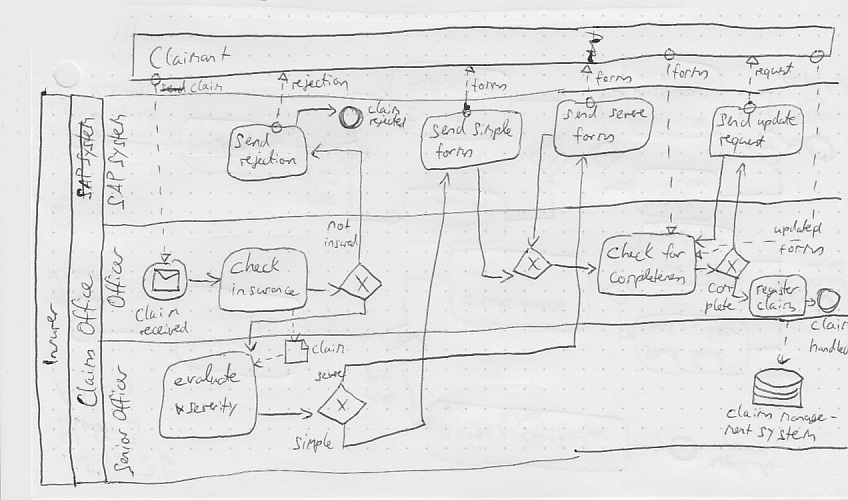Claim: (72, 347, 99, 407), (134, 305, 185, 324), (187, 78, 225, 95)
Claimant: (147, 46, 231, 70)
Com-: (708, 281, 736, 297)
Insurer: (41, 300, 61, 369)
Manage-: (780, 404, 837, 425)
Office: (69, 267, 98, 335)
Officer: (105, 359, 132, 419), (103, 245, 128, 307)
SAP: (103, 174, 128, 209), (74, 171, 96, 201)
Send: (716, 112, 753, 130), (234, 133, 274, 146)
Senior: (110, 422, 134, 475)
System: (104, 114, 130, 170), (75, 117, 98, 167)
check: (232, 255, 281, 276), (610, 242, 658, 262)
claim: (727, 404, 772, 424), (309, 341, 349, 357), (811, 318, 847, 332), (366, 103, 401, 117)
claims: (754, 296, 800, 313)
completeness: (606, 269, 687, 287)
evaluate: (173, 364, 240, 390)
for: (660, 242, 687, 262)
forms: (594, 68, 641, 85), (669, 62, 710, 81), (777, 242, 825, 258), (433, 143, 474, 161), (573, 127, 614, 144), (469, 77, 509, 94)
handle: (806, 335, 843, 359)
insurance: (228, 283, 303, 299)
insured: (322, 235, 358, 250)
ment: (726, 423, 755, 441)
not: (328, 219, 352, 232)
plete: (703, 299, 735, 315)
received: (135, 321, 192, 340)
register: (754, 282, 801, 297)
rejected: (365, 115, 408, 129)
rejection: (285, 73, 349, 93), (237, 153, 297, 169)
request: (750, 59, 800, 80), (716, 134, 767, 150)
send: (429, 122, 468, 141), (564, 107, 604, 122)
serve: (608, 107, 648, 121)
severe: (314, 368, 347, 381)
severity: (183, 399, 238, 418)
simple: (470, 121, 514, 141), (291, 435, 336, 453)
system: (757, 425, 819, 444)
update: (755, 110, 798, 130)
updated: (772, 221, 824, 238)
